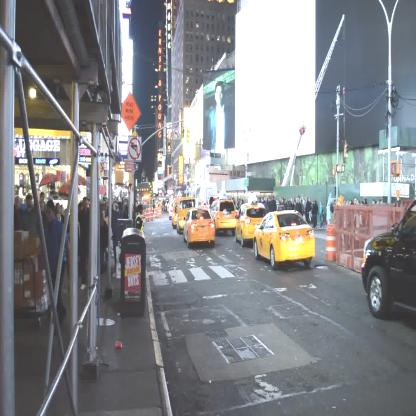car: (362, 194, 415, 336), (254, 210, 314, 267), (236, 203, 266, 247), (183, 210, 215, 248), (210, 200, 236, 234)
